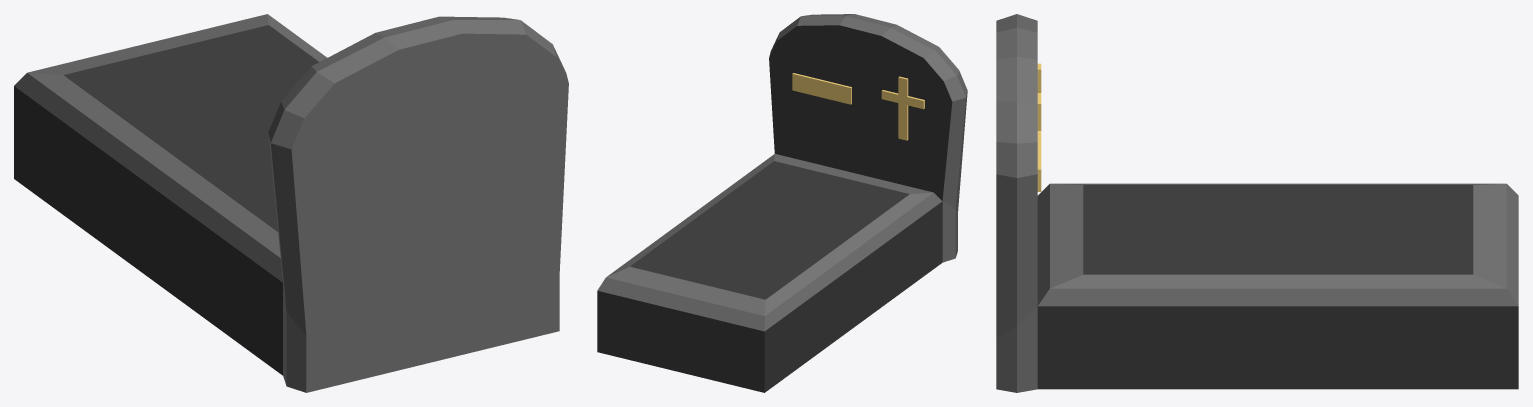
The model's file is Grave2.fbx.
3 views of the same model, side by side, from view 1: azimuth 30°, elevation 25°; view 2: azimuth 150°, elevation 25°; view 3: azimuth 270°, elevation 25° (orthographic). The views are drawn at different scales.
Visible parts, largest first — view 1: Grave2; view 2: Grave2; view 3: Grave2.
Part boxes in pixels (left/top/right/bottom): Grave2: left=14, top=14, right=568, bottom=392; Grave2: left=597, top=14, right=967, bottom=392; Grave2: left=996, top=14, right=1518, bottom=392.
Bounding box in the file's own units: 0.8873 × 1.52 × 0.9345.
